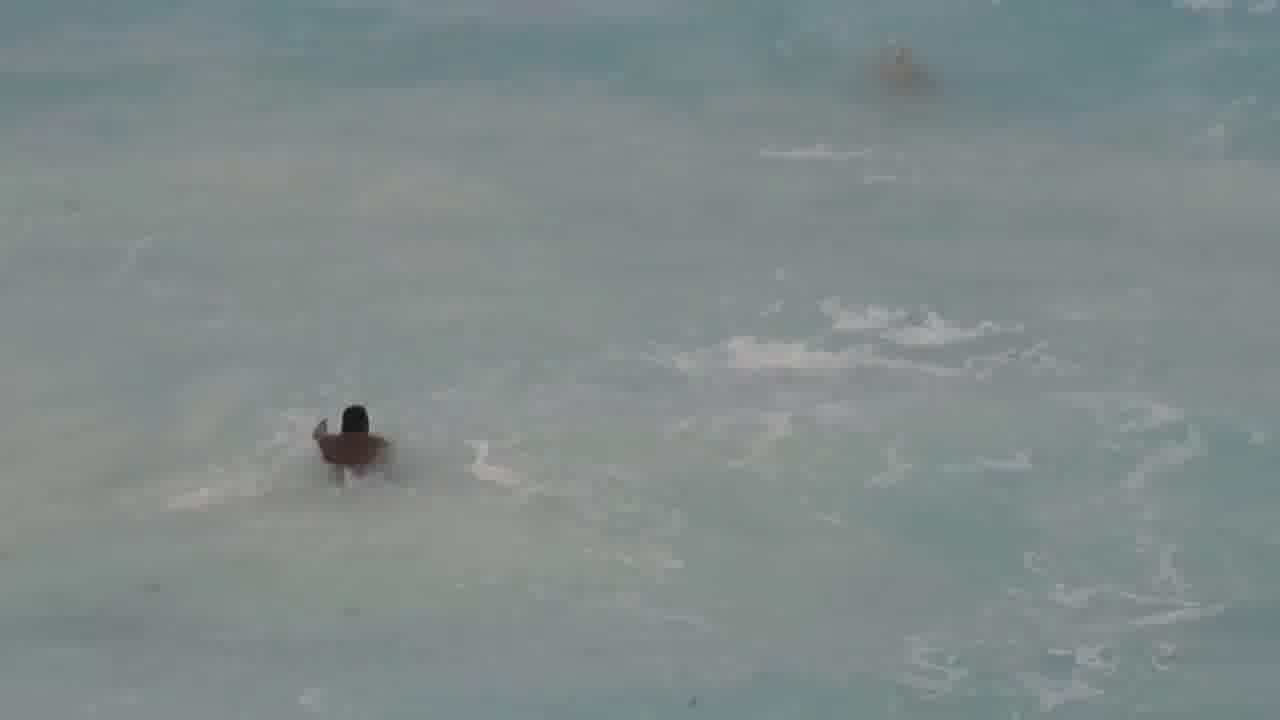swimmer: (315, 385, 390, 488)
